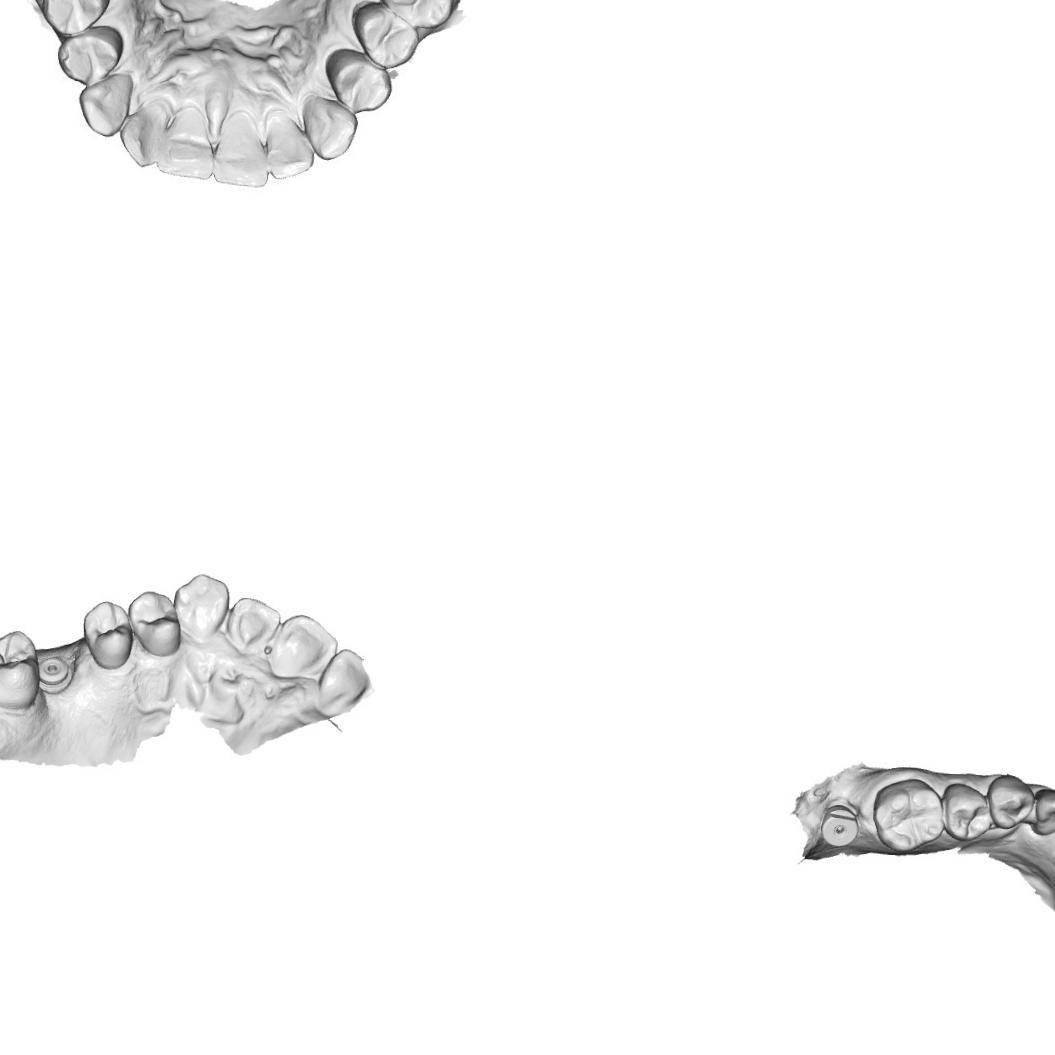canine: (171, 571, 230, 643), (304, 95, 357, 164), (77, 74, 130, 141), (1031, 787, 1055, 838)
implant: (818, 802, 860, 848), (40, 654, 78, 690)
incisor: (266, 612, 340, 682), (215, 111, 273, 186), (313, 646, 371, 718), (156, 109, 214, 178), (222, 594, 282, 656), (266, 113, 312, 178), (122, 106, 170, 166)
molar: (869, 776, 948, 854), (0, 631, 43, 713), (372, 0, 457, 26)
premolar: (328, 48, 396, 117), (351, 3, 414, 75), (80, 596, 140, 670), (58, 25, 120, 87), (127, 592, 182, 656), (939, 781, 993, 843), (984, 773, 1036, 831), (43, 0, 105, 34)
